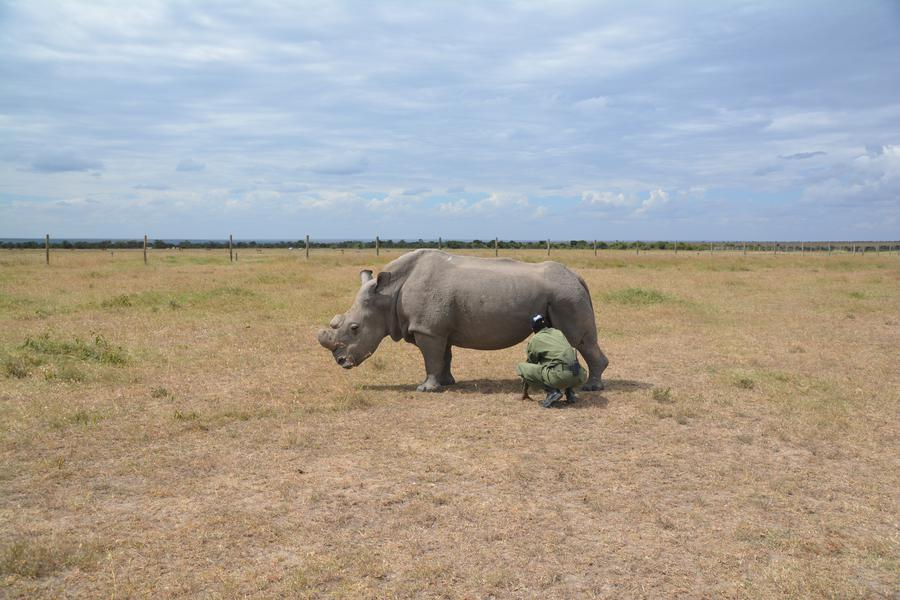rhino: (325, 254, 602, 396)
